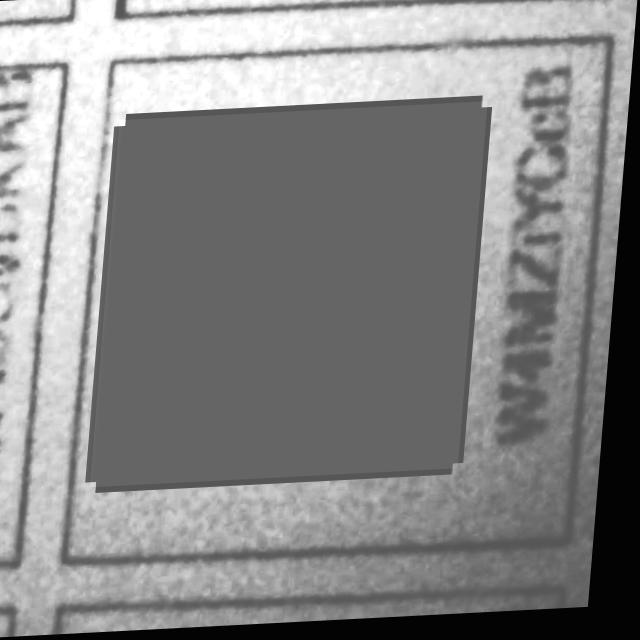qr_code: (98, 106, 490, 488)
